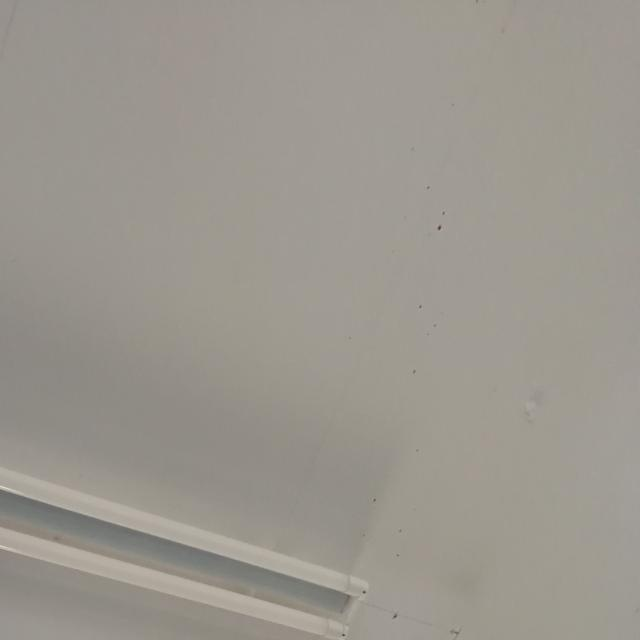fluorescent tube: (0, 357, 383, 640)
